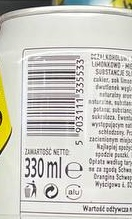1d: (26, 54, 75, 138)
